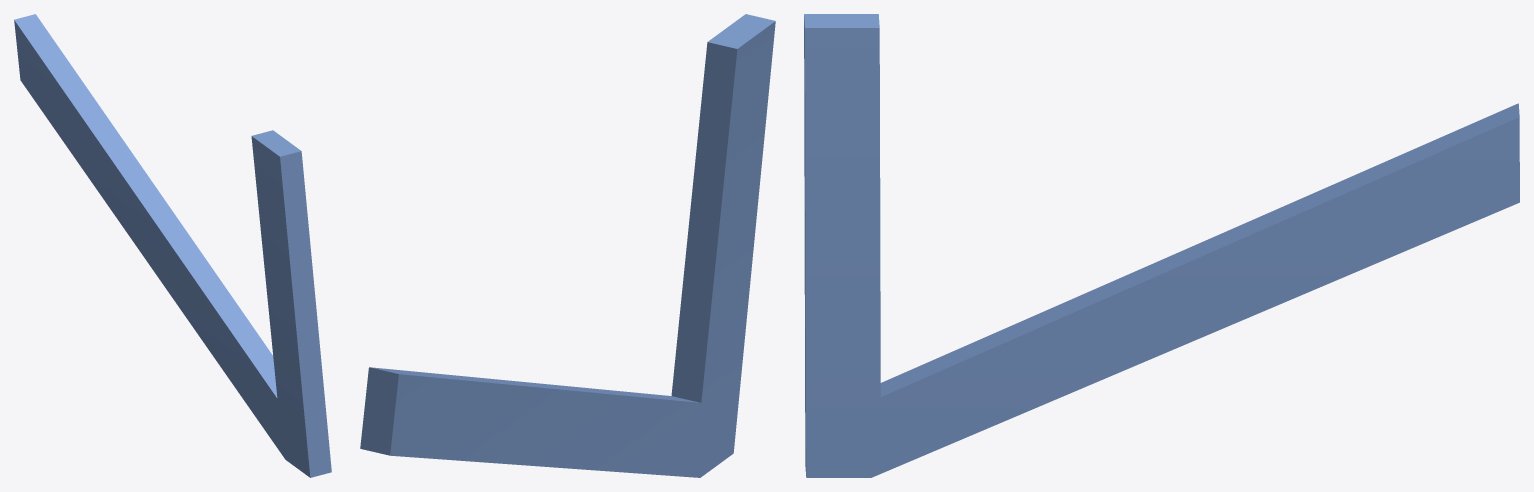
File: New_Number_7.gltf
3 renders of one model, left to right at view 1: azimuth 30°, elevation 25°; view 2: azimuth 150°, elevation 25°; view 3: azimuth 270°, elevation 25°, orthographic. The views are drawn at different scales.
Parts seen in each view (by area): view 1: Part 268; view 2: Part 268; view 3: Part 268.
Boxes of the visible parts, x1,y1,x2,y2 form: Part 268: (14,14,331,477); Part 268: (360,14,775,477); Part 268: (804,14,1519,477).
Size of the model in its own units: 0.000613 by 0.00366 by 0.00551.
